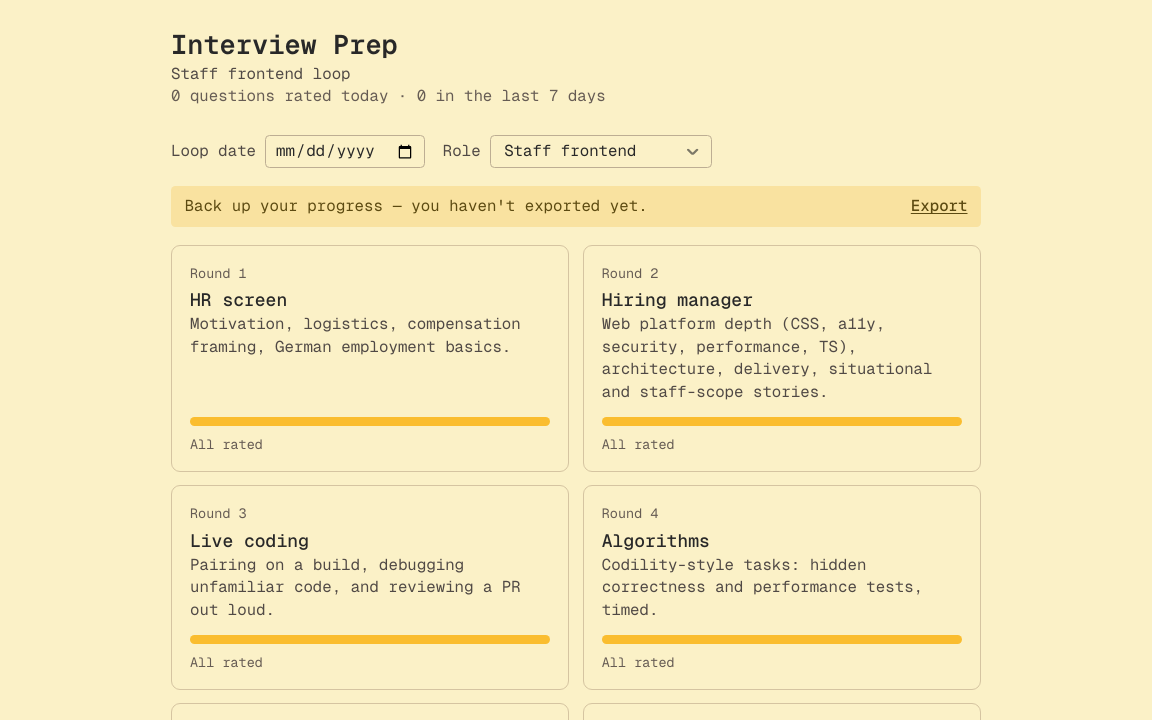
Scenario: Home › a loop date in the past stops counting and drops the urgency sort
In the date field labelled "Loop date": (345, 152) x1=265 y1=135 x2=425 y2=168, type "2020-01-01"
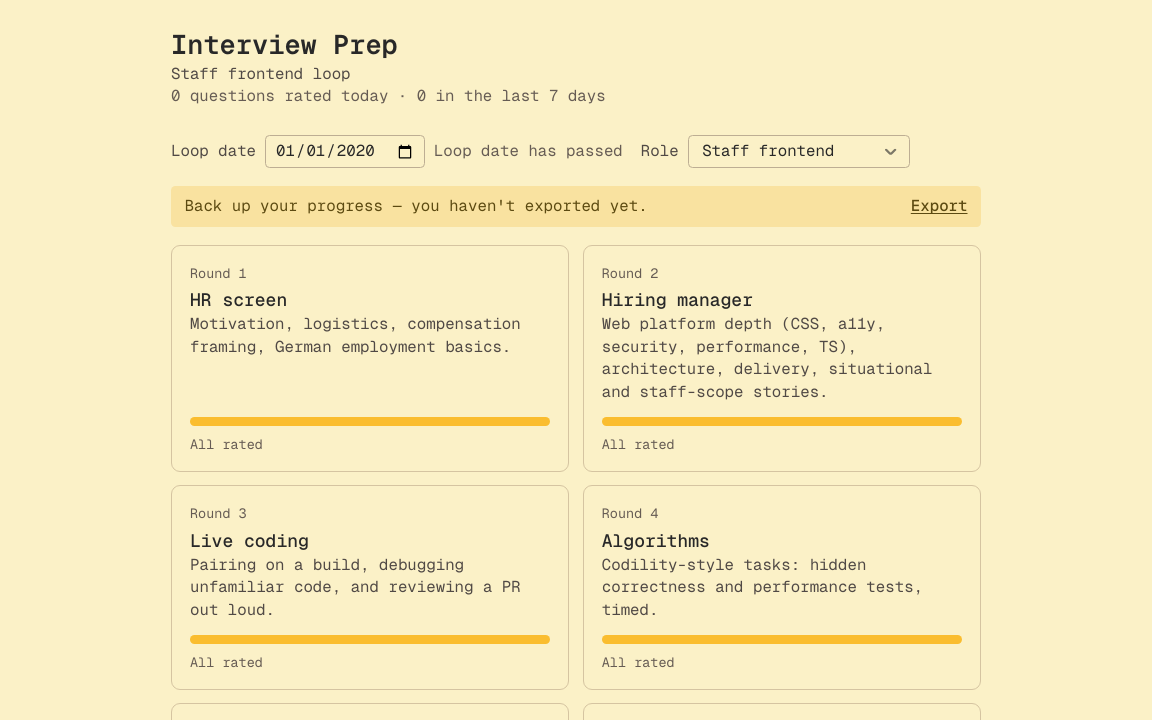
Expected: the heading "HR screen" is shown, x1=190 y1=288 x2=287 y2=312
Expected: the text "Loop date has passed" is shown, x1=434 y1=140 x2=623 y2=163
